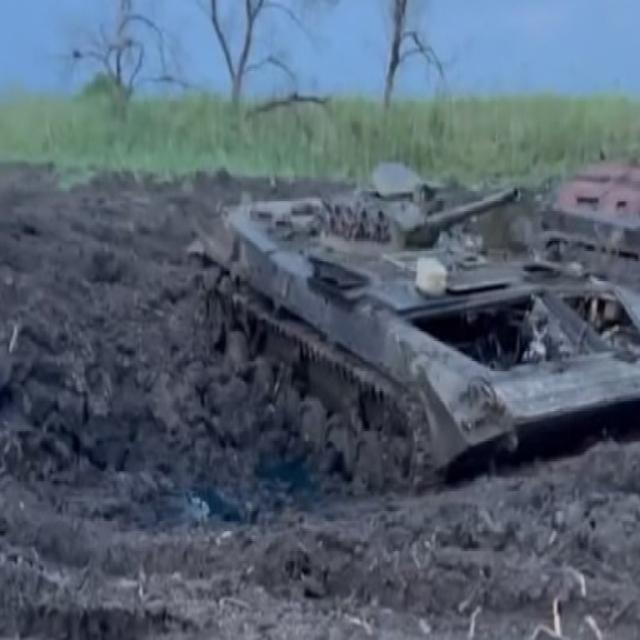APC-IFV: (192, 151, 638, 498)
